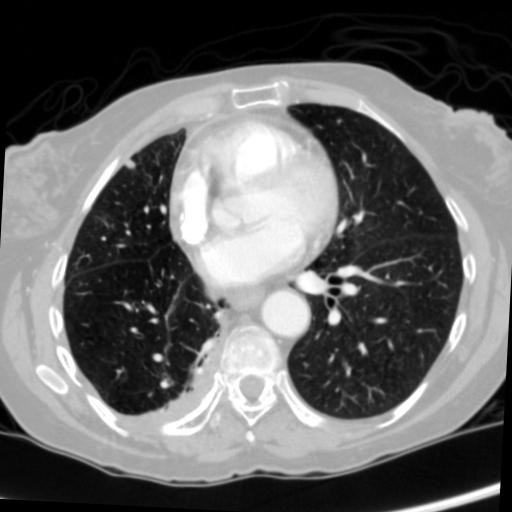nodule: (123, 157, 137, 171)
